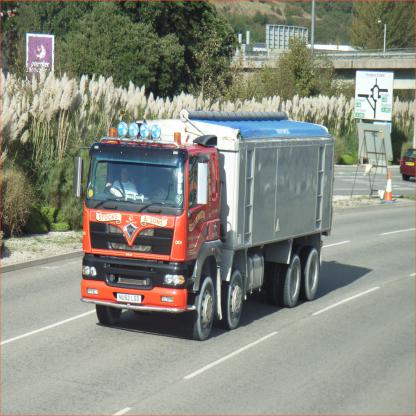Car: (400, 139, 416, 182)
Truck: (78, 104, 341, 348)
